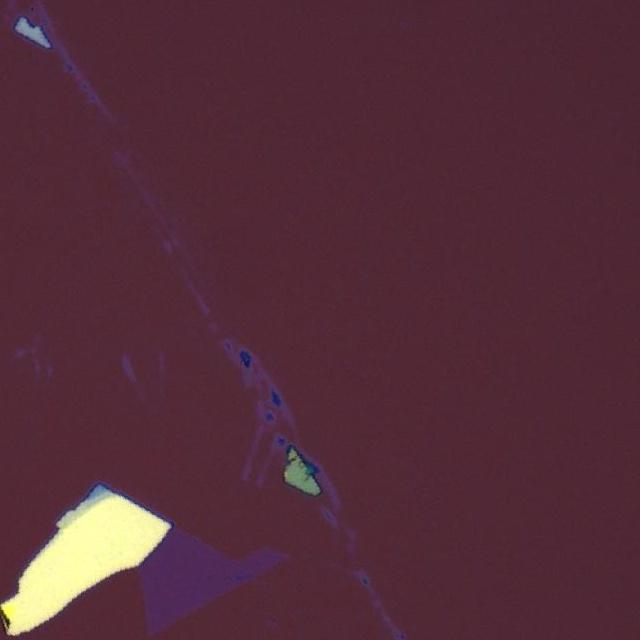monolayer-eWW4: (137, 524, 290, 629)
